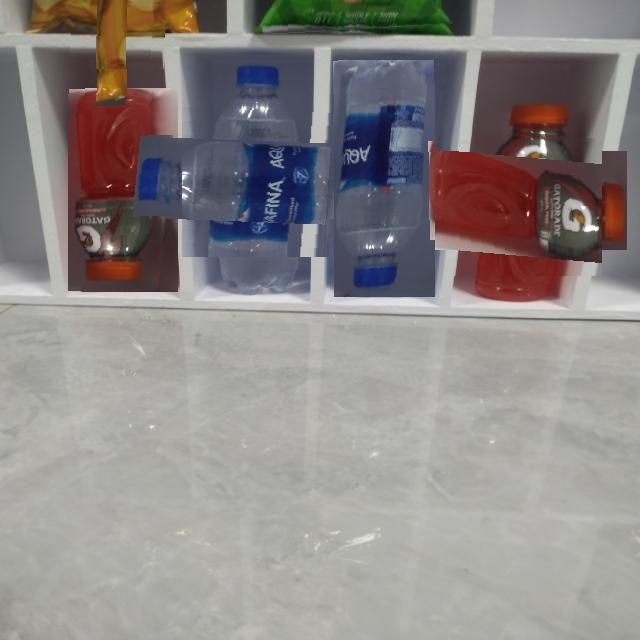Plastic: (182, 100, 340, 257), (334, 60, 436, 297), (68, 88, 178, 292), (453, 126, 602, 276), (57, 0, 165, 69), (263, 0, 454, 35)
